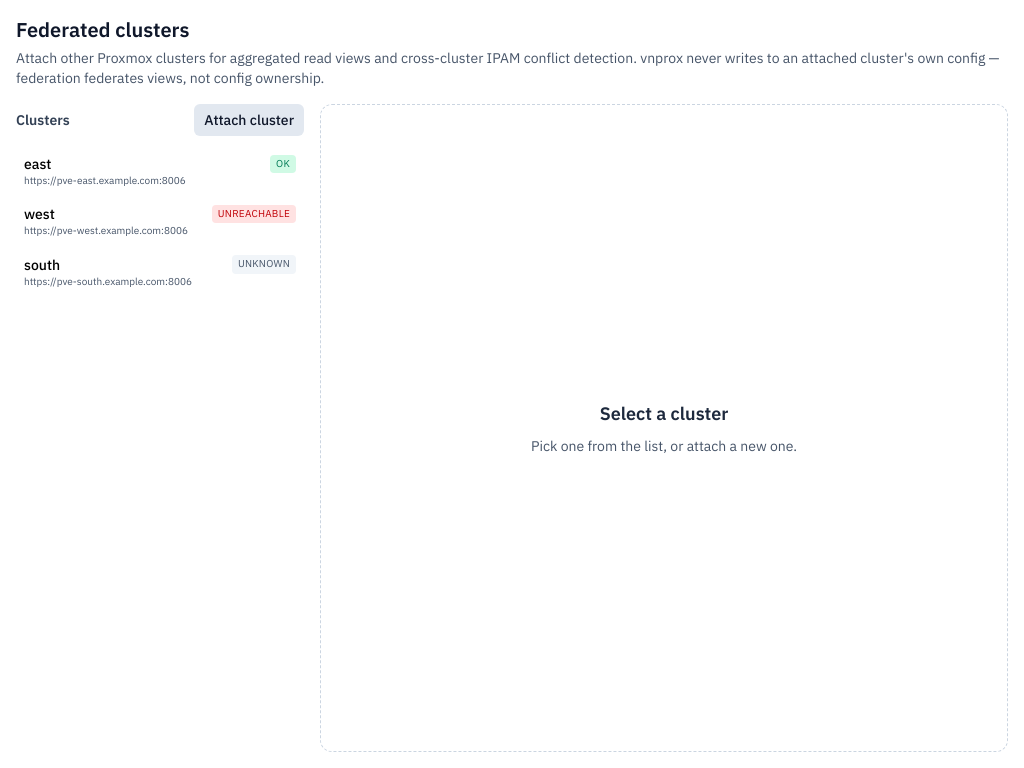
Scenario: FederationClusters attach form validation › requires a credential to attach a new cluster
Click the button "Attach cluster": (249, 120) [194,104,304,136]
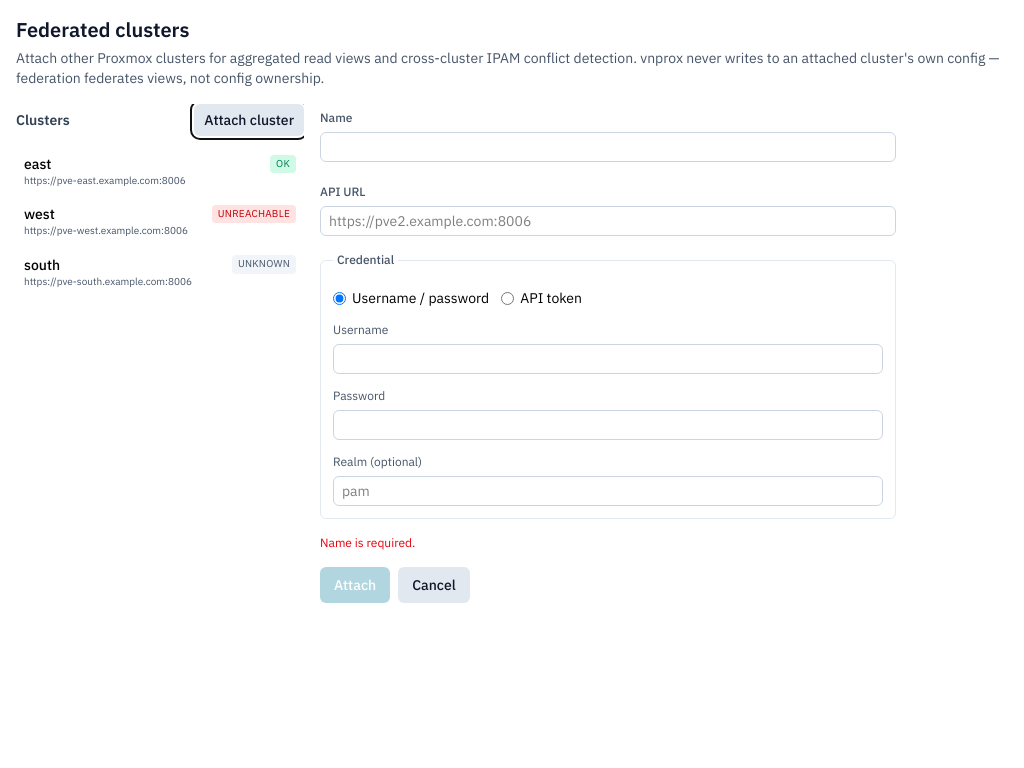
In the field labelled "Name": (608, 147) [320,132,896,162], type "north"
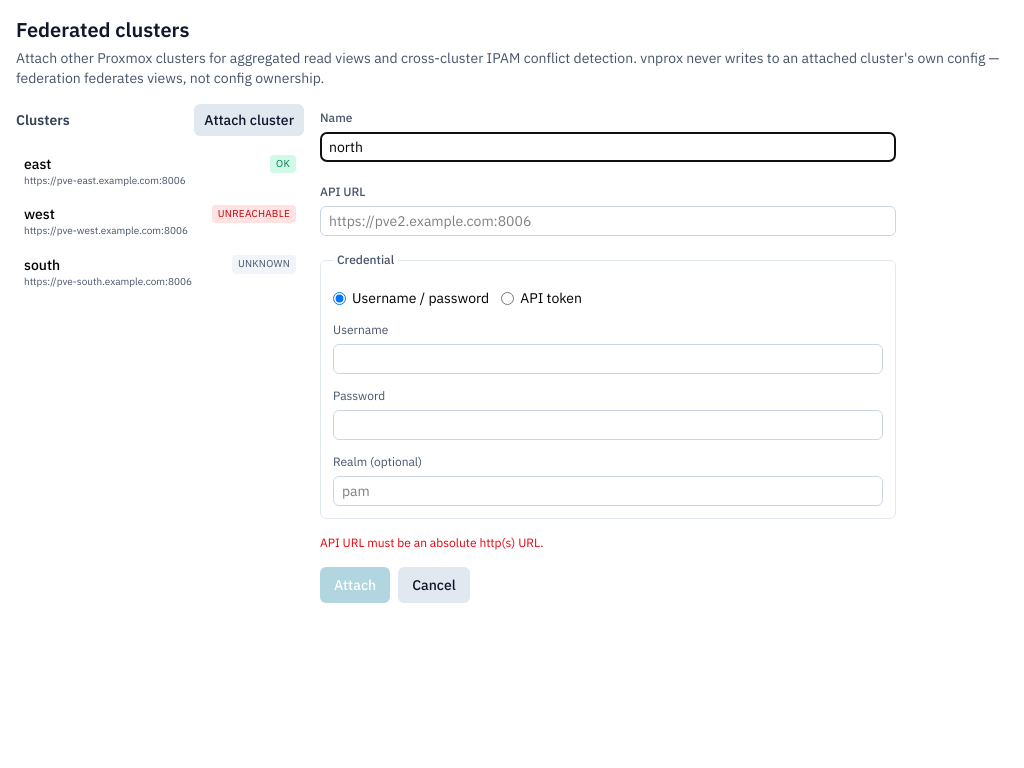
In the field labelled "API URL": (608, 221) [320,206,896,236], type "https://north.example.com:8006"
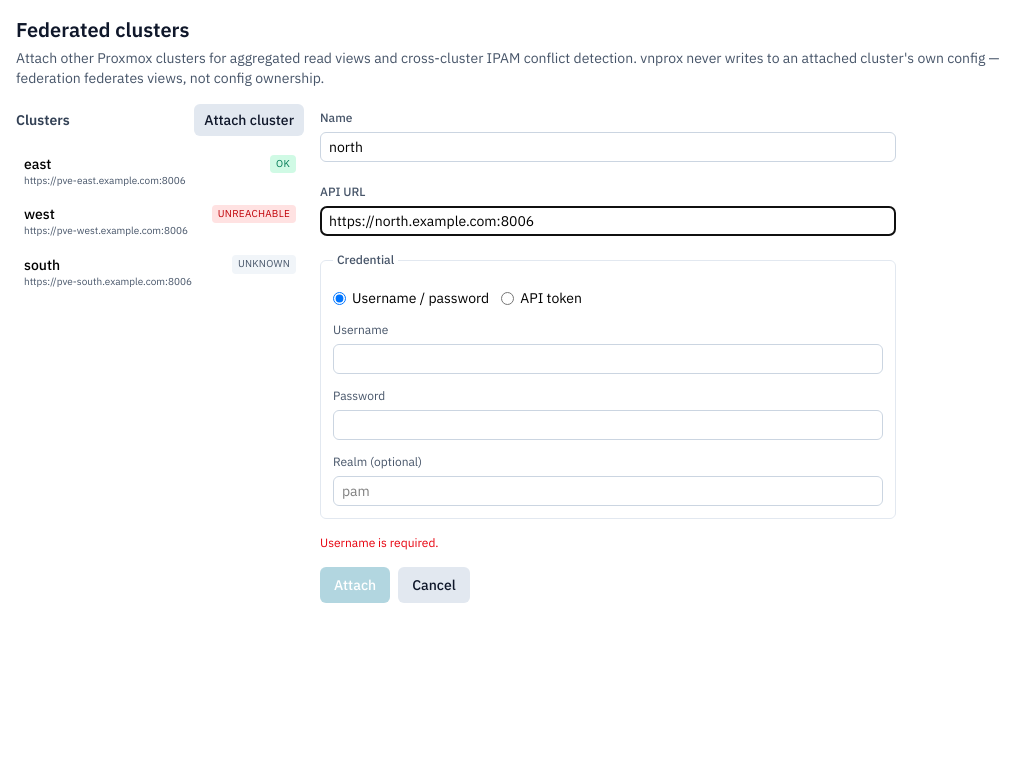
Expected: the button "Attach" is disabled, [320,567,390,603]
Result: the text "Username is required." is shown at [320,535,439,550]
